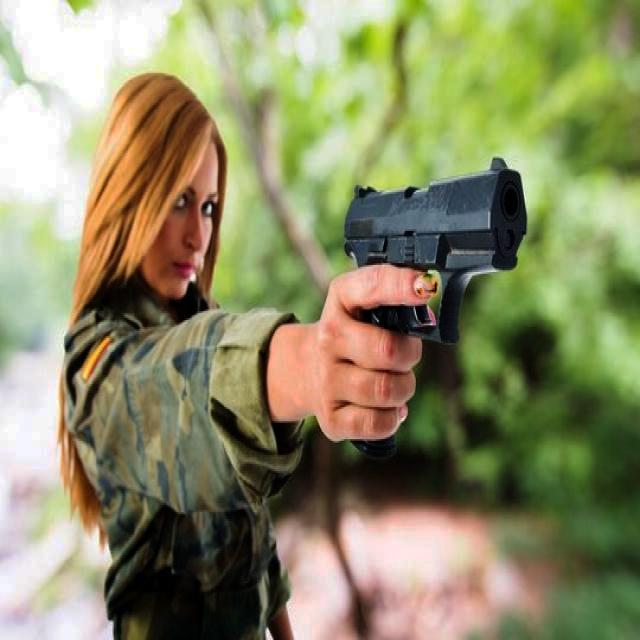Gun: (342, 153, 539, 357)
